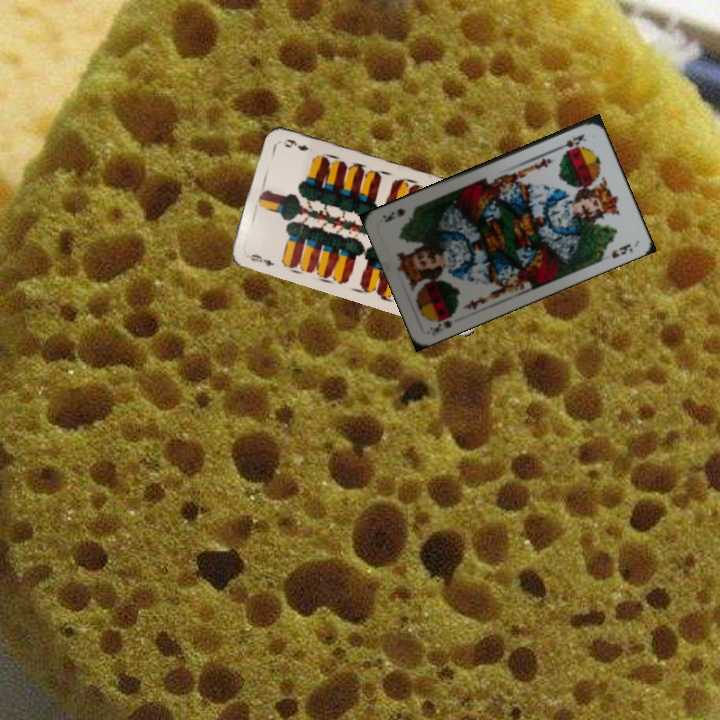E9: (242, 250, 277, 269)
SK: (425, 309, 459, 339), (552, 130, 589, 153)
